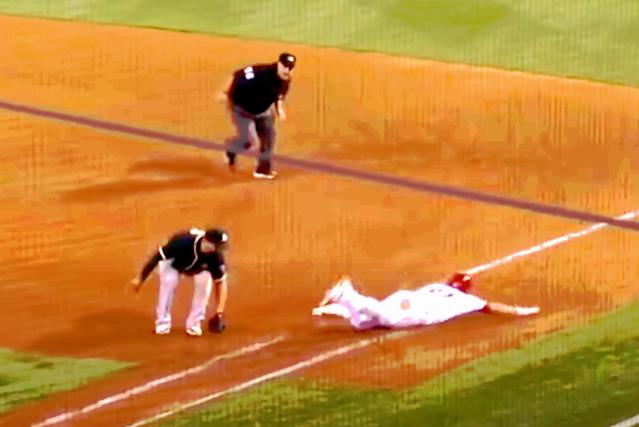jatuh: (306, 262, 544, 338)
